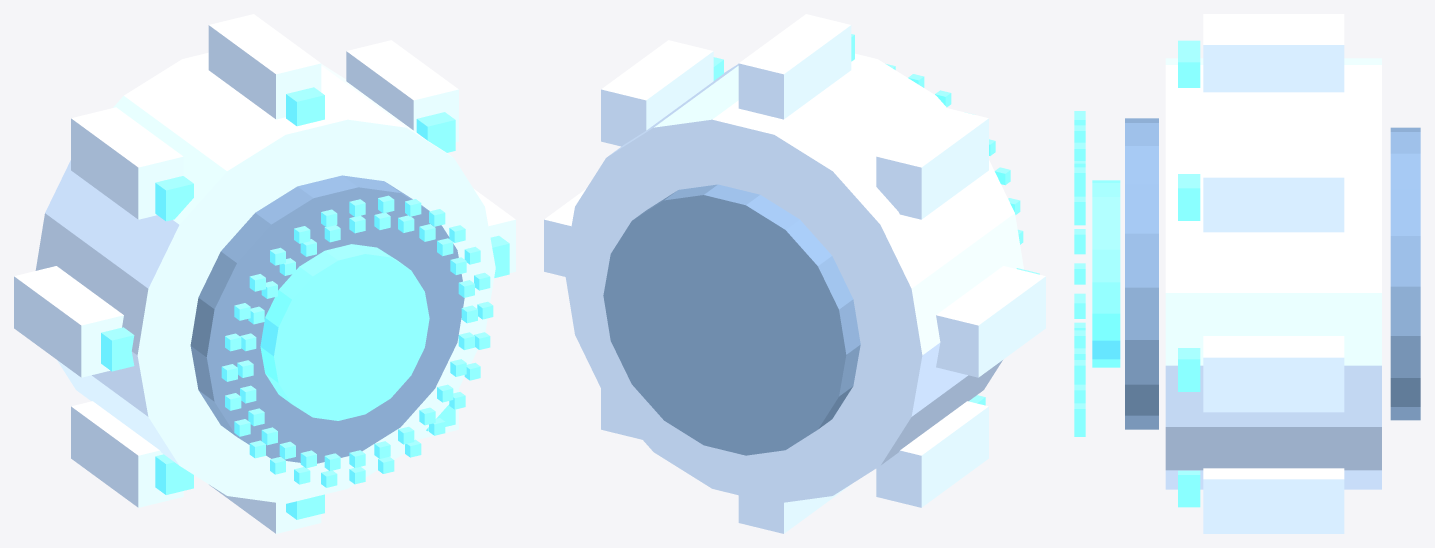
The picture shows the model from 3 angles, left to right: view 1: azimuth 30°, elevation 25°; view 2: azimuth 150°, elevation 25°; view 3: azimuth 270°, elevation 25°; orthographic projection. The views are drawn at different scales.
Visible parts, largest first — view 1: core, front, shield_core, brace_3, brace_4, brace_2, brace_1, brace_5, brace_6, glow_3, glow_2, glow_4 (+5 smaller); view 2: core, rear, brace_3, brace_4, brace_2, brace_1, brace_5, brace_6, brace_0, brace_7; view 3: core, brace_1, brace_0, front, brace_2, brace_7, rear, shield_core, brace_3, glow_1, glow_0, glow_2 (+1 smaller).
Boxes of the visible parts, <box> form: core: <box>35,52,495,503</box>; front: <box>190,175,464,463</box>; shield_core: <box>260,244,429,420</box>; brace_3: <box>71,107,183,219</box>; brace_4: <box>14,266,123,377</box>; brace_2: <box>208,14,321,119</box>; brace_1: <box>346,40,458,142</box>; brace_5: <box>71,401,183,507</box>; brace_6: <box>209,484,321,533</box>; glow_3: <box>155,176,193,221</box>; glow_2: <box>286,87,324,126</box>; glow_4: <box>101,327,134,371</box>; core: <box>564,53,1023,503</box>; rear: <box>603,184,860,455</box>; brace_3: <box>876,107,988,219</box>; brace_4: <box>936,266,1045,377</box>; brace_2: <box>738,14,851,119</box>; brace_1: <box>601,40,713,146</box>; brace_5: <box>876,401,988,507</box>; brace_6: <box>738,484,850,533</box>; brace_0: <box>544,189,585,276</box>; brace_7: <box>601,389,642,439</box>; core: <box>1165,58,1381,489</box>; brace_1: <box>1203,154,1344,232</box>; brace_0: <box>1203,336,1344,412</box>; front: <box>1125,118,1158,429</box>; brace_2: <box>1203,22,1344,92</box>; brace_7: <box>1203,468,1344,533</box>; rear: <box>1390,127,1420,420</box>; shield_core: <box>1092,180,1120,367</box>; brace_3: <box>1203,14,1344,21</box>; glow_1: <box>1178,174,1200,220</box>; glow_0: <box>1178,348,1200,391</box>; glow_2: <box>1178,48,1200,87</box>.
Bounding box in the file's own units: 2.79 × 2.82 × 1.84.
